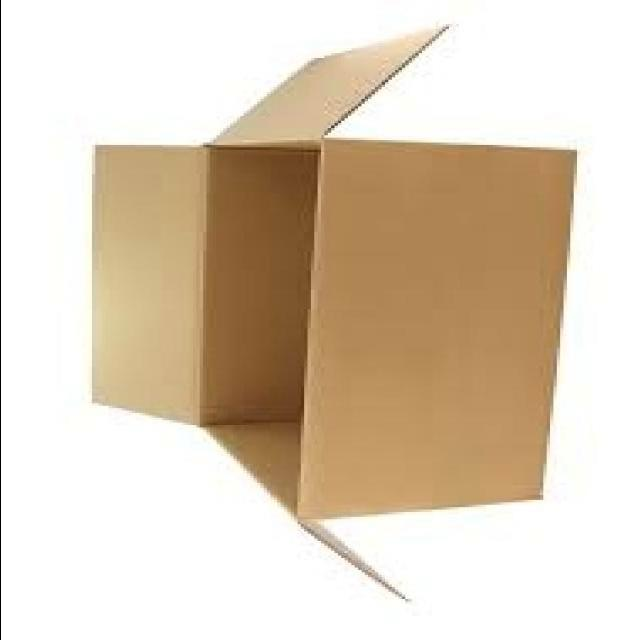cardboard paper: (90, 32, 571, 517), (296, 140, 571, 516)
